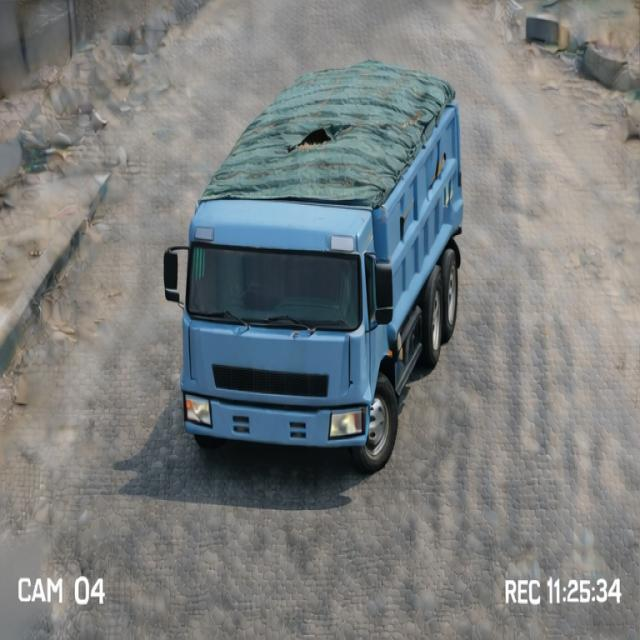Box: (197, 61, 457, 207)
Truck: (161, 54, 479, 466)
